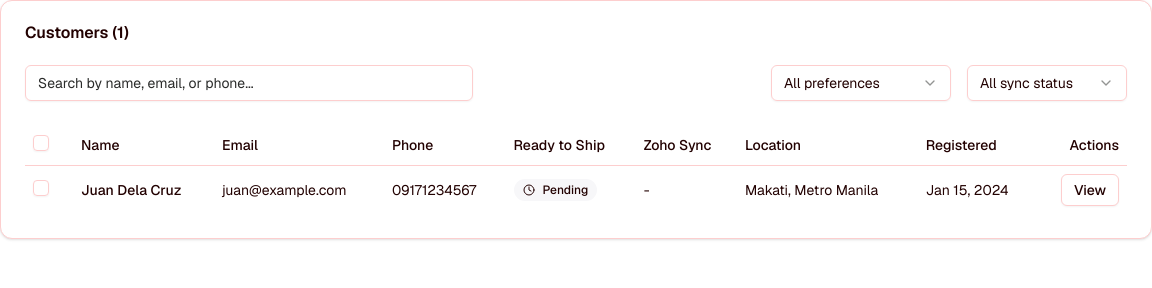
Test: CustomerList Component › Search Functionality › should show "no match" message when search returns no results
This screenshot has width=1152, height=288.
In the field with placeholder "Search by name, email, or phone...": [249, 83] box [25,65,473,101], type "NonExistent"
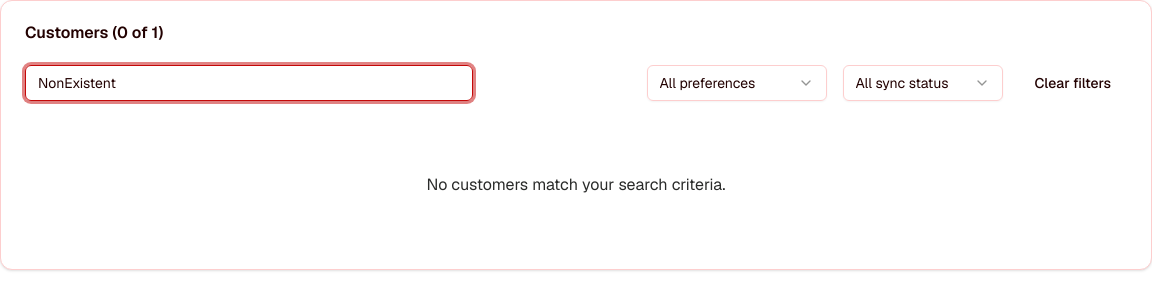
Expected: the text "No customers match your search criteria." is shown, [426,174,726,195]
Expected: the text "Juan Dela Cruz" is gone
